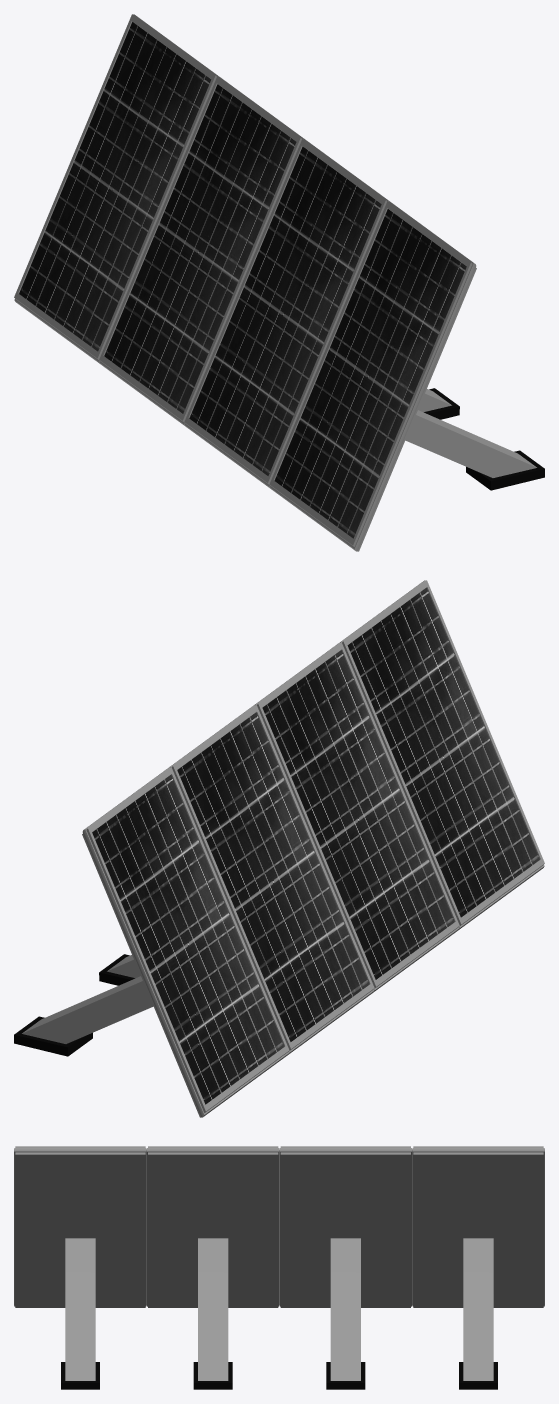
The model's file is groundPanelM90.glb.
3 renders of one model, top to bottom at view 1: azimuth 30°, elevation 25°; view 2: azimuth 150°, elevation 25°; view 3: azimuth 270°, elevation 25°, orthographic. The views are drawn at different scales.
Parts seen in each view (by area): view 1: objSolar.004, objSolar.003, objSolar.001, objSolar.002; view 2: objSolar.001, objSolar.002, objSolar.004, objSolar.003; view 3: objSolar.002, objSolar.003, objSolar.001, objSolar.004.
Part boxes in pixels (x1=…): objSolar.004: x1=269, y1=201, x2=544, y2=551; objSolar.003: x1=184, y1=139, x2=459, y2=488; objSolar.001: x1=14, y1=14, x2=218, y2=363; objSolar.002: x1=99, y1=76, x2=303, y2=426; objSolar.001: x1=14, y1=767, x2=289, y2=1117; objSolar.002: x1=99, y1=705, x2=374, y2=1054; objSolar.004: x1=340, y1=580, x2=544, y2=929; objSolar.003: x1=255, y1=642, x2=459, y2=992; objSolar.002: x1=279, y1=1146, x2=412, y2=1389; objSolar.003: x1=146, y1=1146, x2=279, y2=1389; objSolar.001: x1=412, y1=1146, x2=544, y2=1389; objSolar.004: x1=14, y1=1146, x2=146, y2=1389.
Bounding box in the file's own units: 1.5 × 1.7 × 4.
3 materials, 1 textured.
